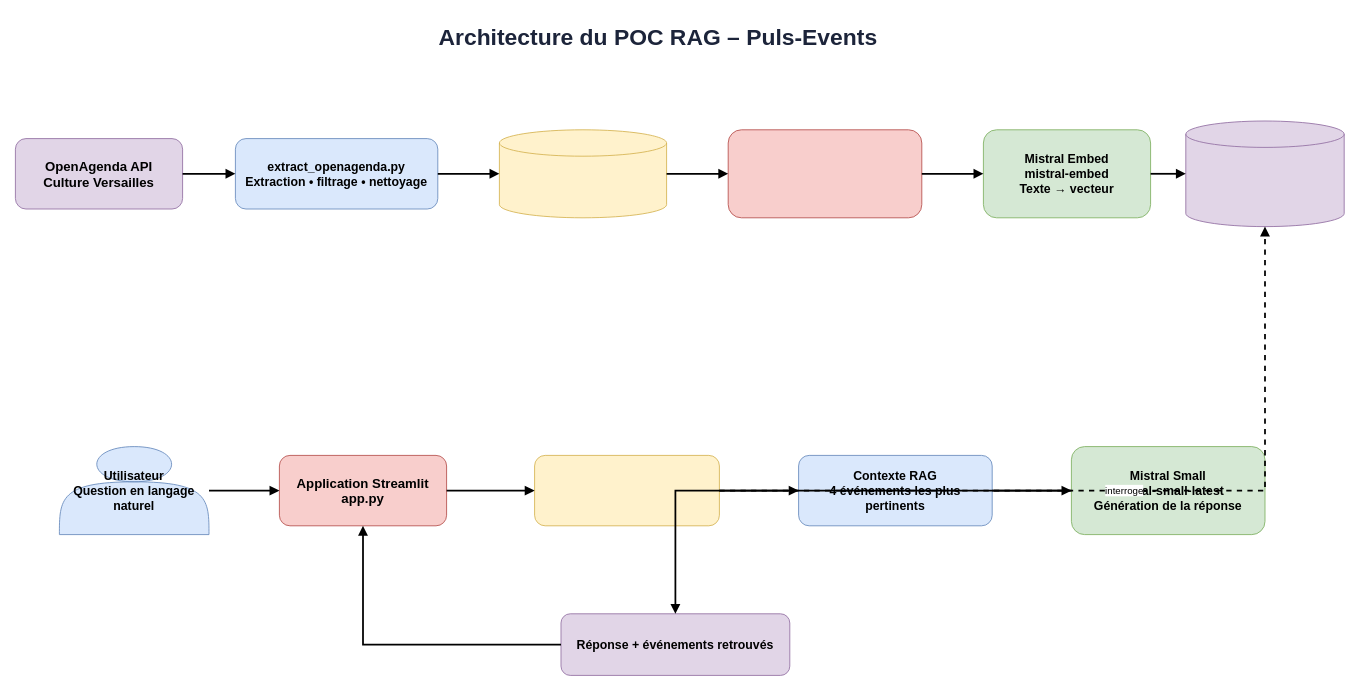
Image size: 1360x691. Some labels were removed from this diagram. Each missing label, with the box of its shape:
Documents LangChain 1 événement = 1 chunk page_content + metadata: (727, 129, 922, 218)
events_versailles.csv 98 événements: (499, 129, 667, 218)
FAISS faiss_versailles index.faiss + index.pkl: (1185, 120, 1344, 227)
Recherche sémantique similarity_search(k=4): (534, 455, 719, 526)
